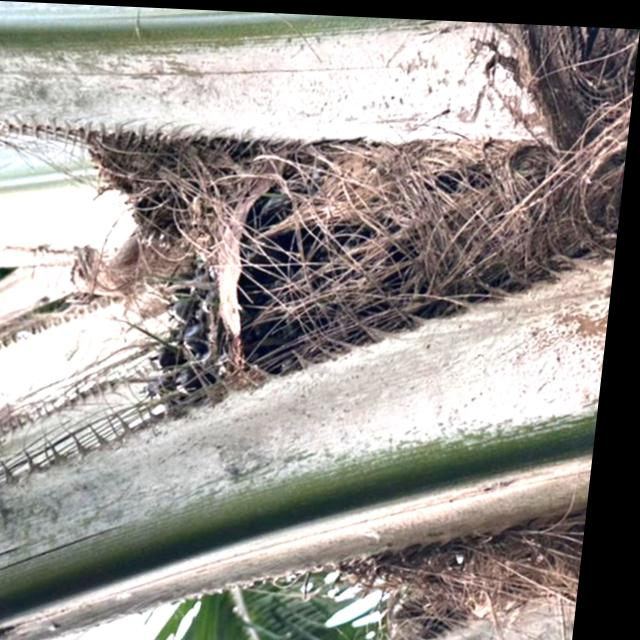unripe: (143, 59, 569, 475)
